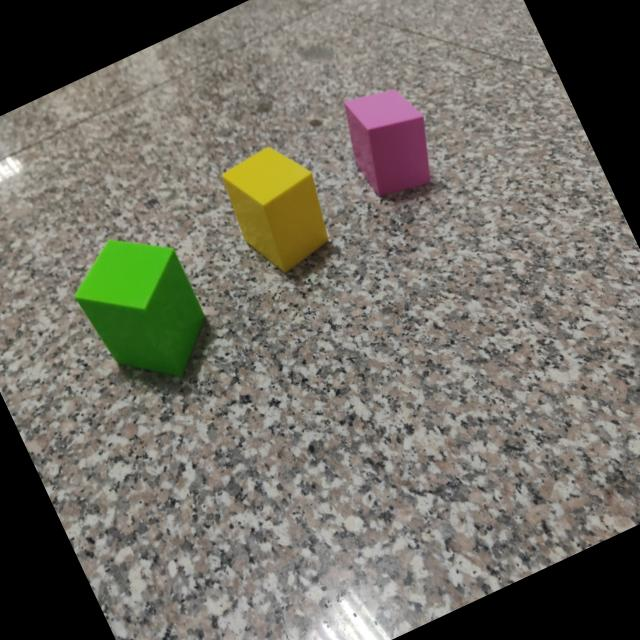green: (74, 239, 207, 379)
pink: (345, 91, 434, 202)
yellow: (222, 148, 330, 275)
